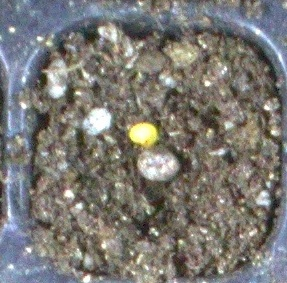chilli seed: (128, 122, 158, 146)
